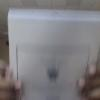notebook: (7, 6, 99, 99)
